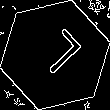L_SW: (27, 27, 83, 83)
